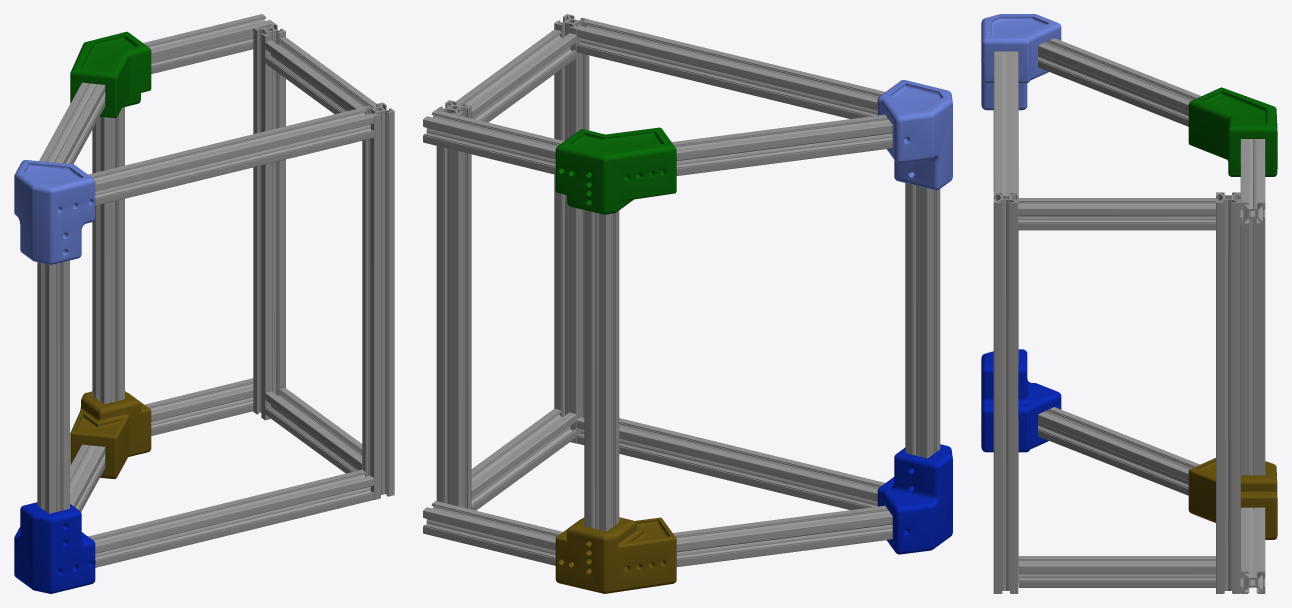
The model's file is module_R_visual.obj.
The picture shows the model from 3 angles, left to right: view 1: azimuth 30°, elevation 25°; view 2: azimuth 150°, elevation 25°; view 3: azimuth 270°, elevation 25°; orthographic projection. The views are drawn at different scales.
Visible parts, largest first — view 1: module_R_visual.001; view 2: module_R_visual.001; view 3: module_R_visual.001.
Boxes of the visible parts, box(x1,y1,x2,y2) form: module_R_visual.001: box(14, 14, 394, 593); module_R_visual.001: box(423, 14, 952, 593); module_R_visual.001: box(981, 14, 1277, 593).
Size of the model in its own units: 0.3436 by 0.37 by 0.24.
